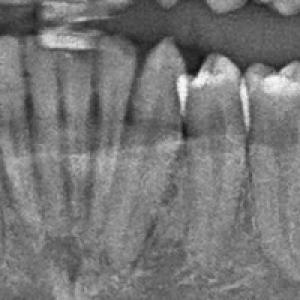tooth: (174, 52, 246, 259), (241, 60, 300, 272), (128, 37, 184, 252), (101, 33, 136, 205), (27, 51, 68, 186), (64, 51, 99, 201)
